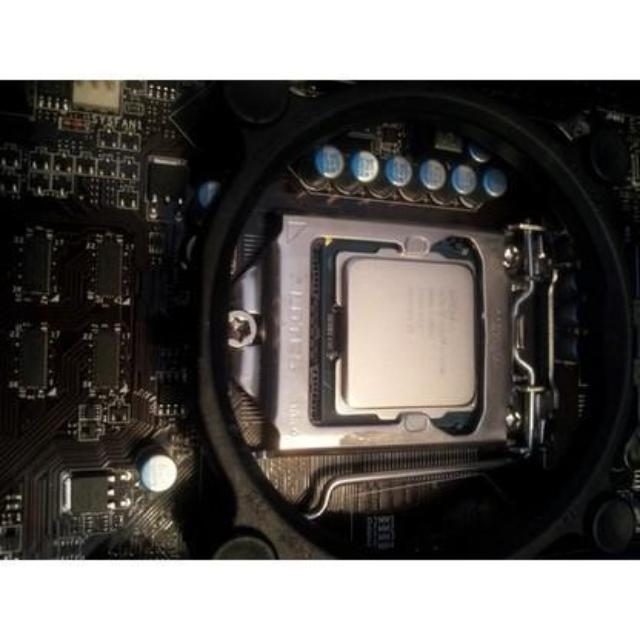CPU: (326, 249, 480, 417)
